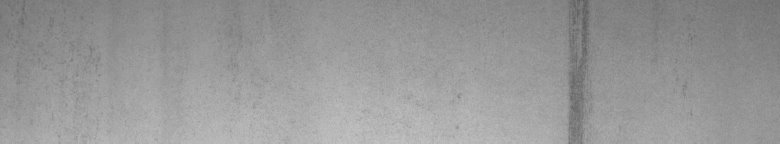hd: (564, 4, 589, 136)
